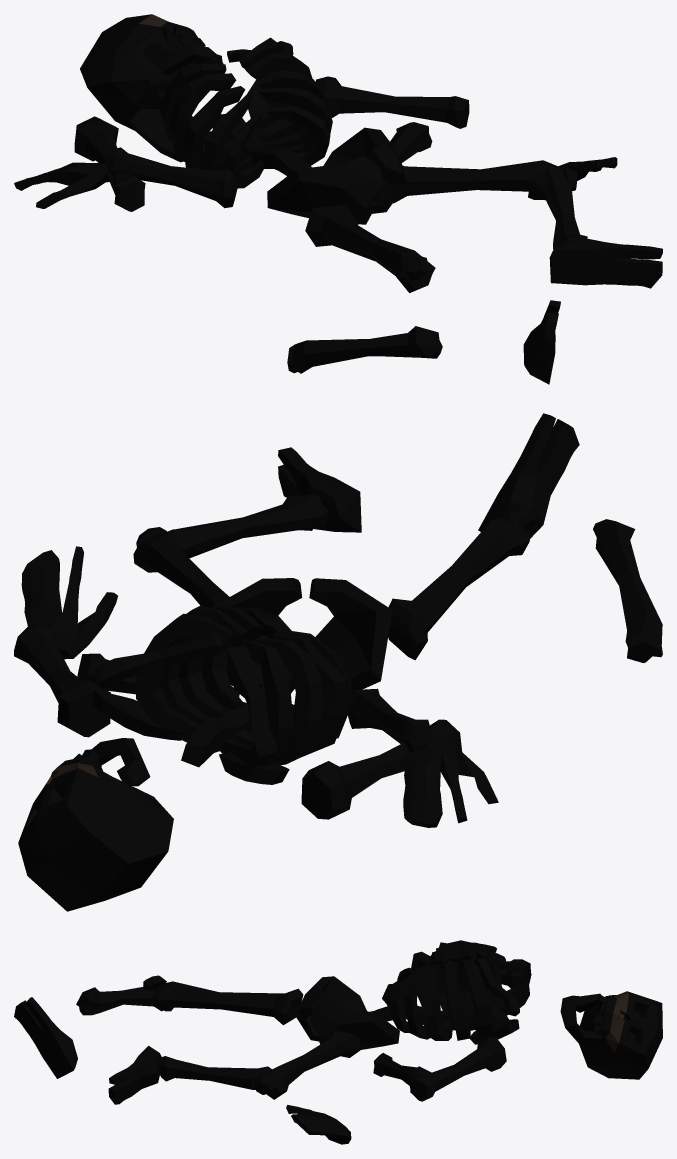
The model's file is synty-prop-skeleton-ground-01.gltf.
3 renders of one model, top to bottom at view 1: azimuth 30°, elevation 25°; view 2: azimuth 150°, elevation 25°; view 3: azimuth 270°, elevation 25°, orthographic. The views are drawn at different scales.
Parts seen in each view (by area): view 1: SM_Prop_Skeleton_Ground_01; view 2: SM_Prop_Skeleton_Ground_01; view 3: SM_Prop_Skeleton_Ground_01.
Boxes of the visible parts, x1,y1,x2,y2 form: SM_Prop_Skeleton_Ground_01: (14, 14, 662, 384); SM_Prop_Skeleton_Ground_01: (14, 413, 662, 911); SM_Prop_Skeleton_Ground_01: (14, 940, 662, 1144).
Bounding box in the file's own units: 1.29 × 0.4067 × 1.96.
1 material, 1 textured.
